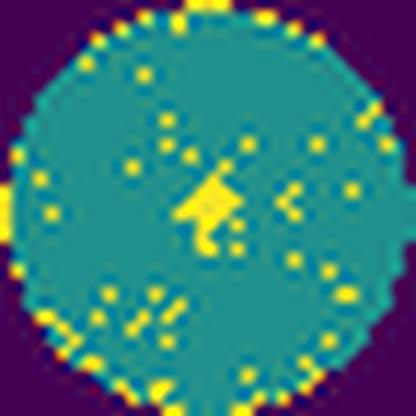Center: (171, 164, 247, 260)
